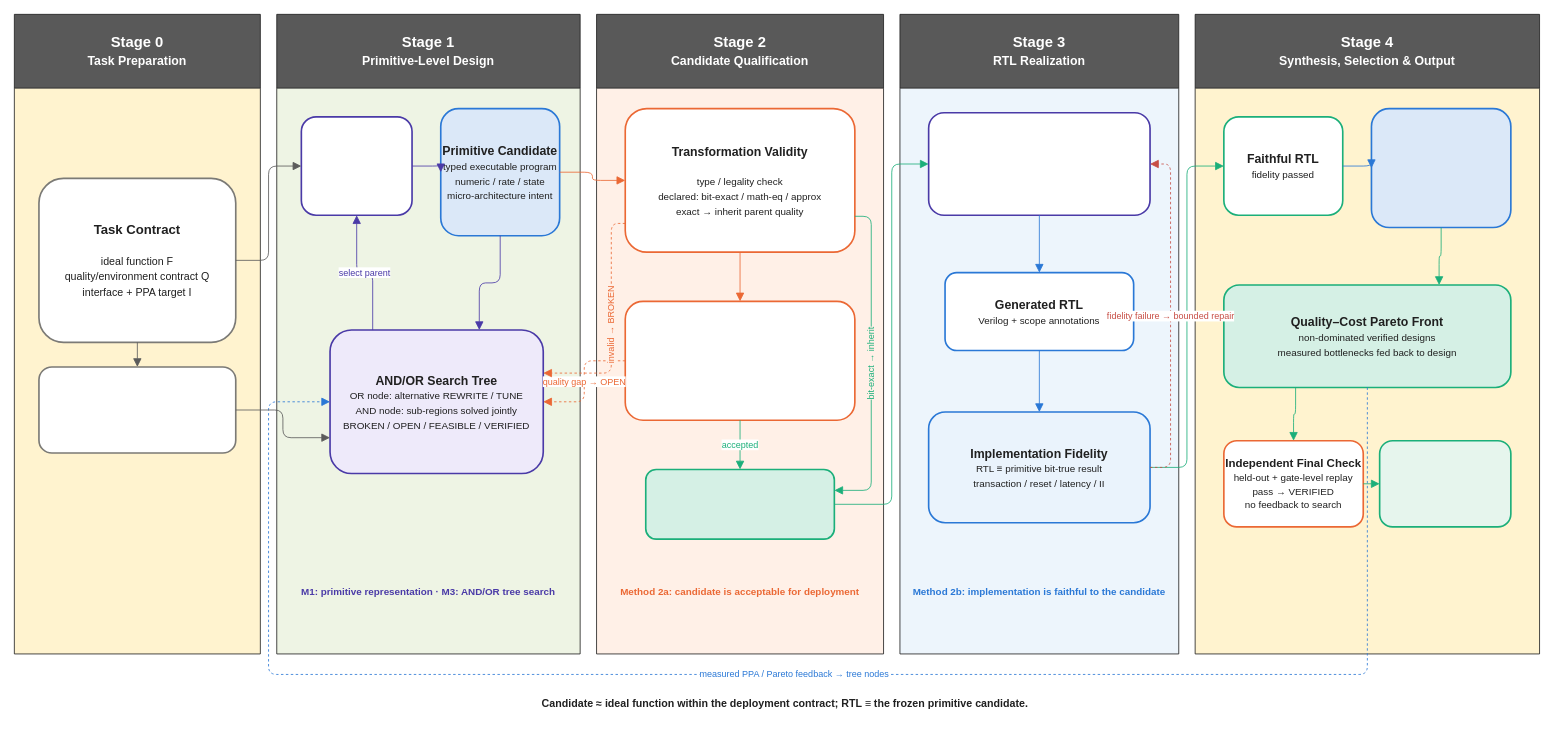
Image size: 1554x730. Some labels were removed from this diagram. The shapes that lost their labels are listed below. From the top down, each one's centre as x and y in pixels, then its label:
At point (356, 166): "Design Agent REWRITE TUNE".
At point (1038, 164): "Lowering Agent frozen primitive contract → RTL + implementation manifest".
At point (1440, 167): "Real PPA synthesis + STA gate-level power area · timing · power".
At point (739, 360): "System-Quality Check SQNR / EVM / BER … acceptable within deployment tolerance".
At point (137, 409): "Initial Primitive Program direct translation of F tree root + baseline".
At point (1444, 483): "Output selected Verilog + alternatives quality / fidelity / PPA report".
At point (740, 504): "Frozen Implementation Contract accepted primitive semantics".
